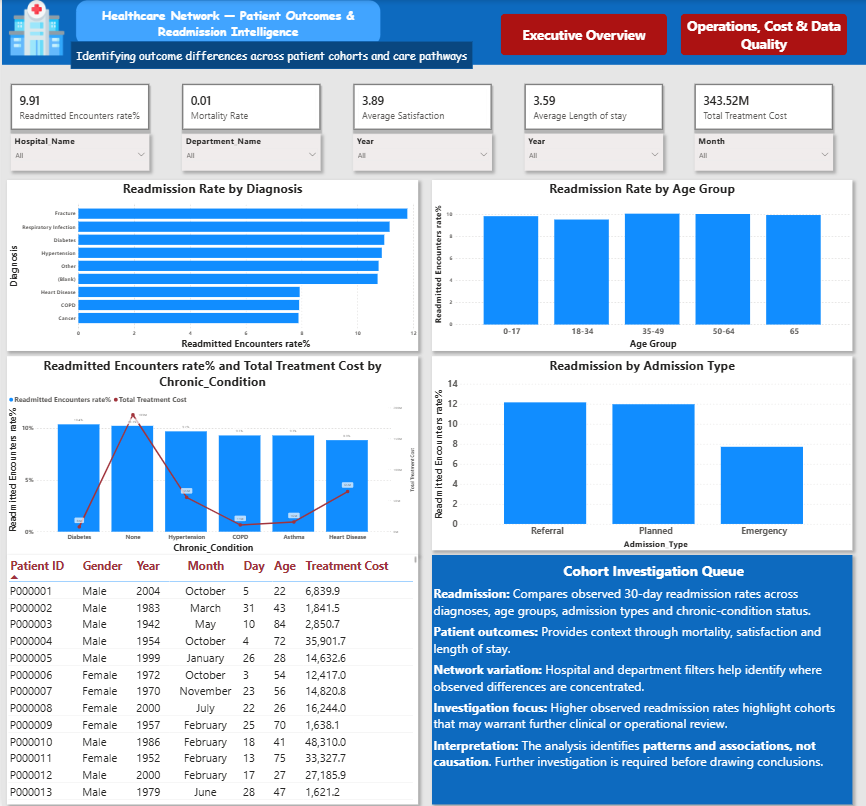

The page's visual inventory and layout, read from the dashboard file:
{"tool":"powerbi","page":{"name":"Patient Outcomes","canvas":[3000,2800],"ordinal":1},"visuals":[{"type":"shape","box":[-8,0,3008,224],"z":0},{"type":"shape","box":[256,0,1056,160],"z":1000},{"type":"shape","box":[240,144,1392,96],"z":2000},{"type":"slicer","fields":{"Values":["Dim_Calendar.Year"]},"box":[1216,464,480,128],"z":3000},{"type":"slicer","fields":{"Values":["Dim_Hospitals.Hospital_Name"]},"box":[32,464,480,128],"z":4000},{"type":"slicer","fields":{"Values":["Dim_Departments.Department_Name"]},"box":[624,464,480,128],"z":5000},{"type":"textbox","box":[1488,1920,1456,864],"z":6000},{"type":"image","box":[0,0,240,192],"z":7000},{"type":"cardVisual","fields":{"Data":["Fact_Encounters.Readmitted Encounters rate%"]},"box":[32,288,480,160],"z":8000},{"type":"cardVisual","fields":{"Data":["Fact_Encounters.Mortality Rate"]},"box":[624,288,480,160],"z":9000},{"type":"cardVisual","fields":{"Data":["Fact_Encounters.Average Satisfaction"]},"box":[1216,288,480,160],"z":10000},{"type":"cardVisual","fields":{"Data":["Fact_Encounters.Average Length of stay"]},"box":[1808,288,480,160],"z":11000},{"type":"cardVisual","fields":{"Data":["Fact_Encounters.Total Treatment Cost"]},"box":[2400,288,480,160],"z":12000},{"type":"clusteredBarChart","title":"Readmission Rate by Diagnosis","fields":{"Category":["Dim_Diagnoses.Diagnosis"],"Y":["Fact_Encounters.Readmitted Encounters rate%"]},"box":[16,624,1424,592],"z":13000},{"type":"clusteredColumnChart","title":"Readmission Rate by Age Group","fields":{"Y":["Fact_Encounters.Readmitted Encounters rate%"],"Category":["Dim_Patients.Custom"]},"box":[1488,624,1456,592],"z":14000},{"type":"lineStackedColumnComboChart","fields":{"Category":["Dim_Patients.Chronic_Condition"],"Y":["Fact_Encounters.Readmitted Encounters rate%"],"Y2":["Fact_Encounters.Total Treatment Cost"]},"box":[16,1232,1424,688],"z":15000},{"type":"tableEx","fields":{"Values":["Dim_Patients.Patient_ID","Dim_Patients.Gender","Dim_Patients.Date_of_Birth.Variation.Date Hierarchy.Year","Dim_Patients.Date_of_Birth.Variation.Date Hierarchy.Month","Dim_Patients.Date_of_Birth.Variation.Date Hierarchy.Day","Dim_Patients.Age","Sum(Fact_Encounters.Treatment_Cost)"]},"box":[16,1920,1424,864],"z":16000},{"type":"columnChart","title":"Readmission by Admission Type","fields":{"Category":["Fact_Encounters.Admission_Type"],"Y":["Fact_Encounters.Readmitted Encounters rate%"]},"box":[1488,1232,1456,672],"z":17000},{"type":"shape","box":[1728,48,576,144],"z":18000},{"type":"shape","box":[2352,48,576,144],"z":19000},{"type":"slicer","fields":{"Values":["Dim_Calendar.Year"]},"box":[1808,464,480,128],"z":20000},{"type":"slicer","fields":{"Values":["Dim_Calendar.Month"]},"box":[2400,464,480,128],"z":21000}]}

Visuals, with their boxes in screenshot pixels (x1, y1, x2, y2), scaled from the page's 3000x2800 canvas onto the 866x806 screenshot:
shape: left=0, top=0, right=865, bottom=64
shape: left=74, top=0, right=379, bottom=46
shape: left=69, top=41, right=471, bottom=69
slicer - Dim_Calendar.Year: left=351, top=134, right=490, bottom=170
slicer - Dim_Hospitals.Hospital_Name: left=9, top=134, right=148, bottom=170
slicer - Dim_Departments.Department_Name: left=180, top=134, right=319, bottom=170
textbox: left=430, top=553, right=850, bottom=801
image: left=0, top=0, right=69, bottom=55
cardVisual - Fact_Encounters.Readmitted Encounters rate%: left=9, top=83, right=148, bottom=129
cardVisual - Fact_Encounters.Mortality Rate: left=180, top=83, right=319, bottom=129
cardVisual - Fact_Encounters.Average Satisfaction: left=351, top=83, right=490, bottom=129
cardVisual - Fact_Encounters.Average Length of stay: left=522, top=83, right=660, bottom=129
cardVisual - Fact_Encounters.Total Treatment Cost: left=693, top=83, right=831, bottom=129
"Readmission Rate by Diagnosis" clusteredBarChart: left=5, top=180, right=416, bottom=350
"Readmission Rate by Age Group" clusteredColumnChart: left=430, top=180, right=850, bottom=350
lineStackedColumnComboChart - Dim_Patients.Chronic_Condition x Fact_Encounters.Readmitted Encounters rate%: left=5, top=355, right=416, bottom=553
tableEx - Dim_Patients.Patient_ID x Dim_Patients.Gender: left=5, top=553, right=416, bottom=801
"Readmission by Admission Type" columnChart: left=430, top=355, right=850, bottom=548
shape: left=499, top=14, right=665, bottom=55
shape: left=679, top=14, right=845, bottom=55
slicer - Dim_Calendar.Year: left=522, top=134, right=660, bottom=170
slicer - Dim_Calendar.Month: left=693, top=134, right=831, bottom=170
